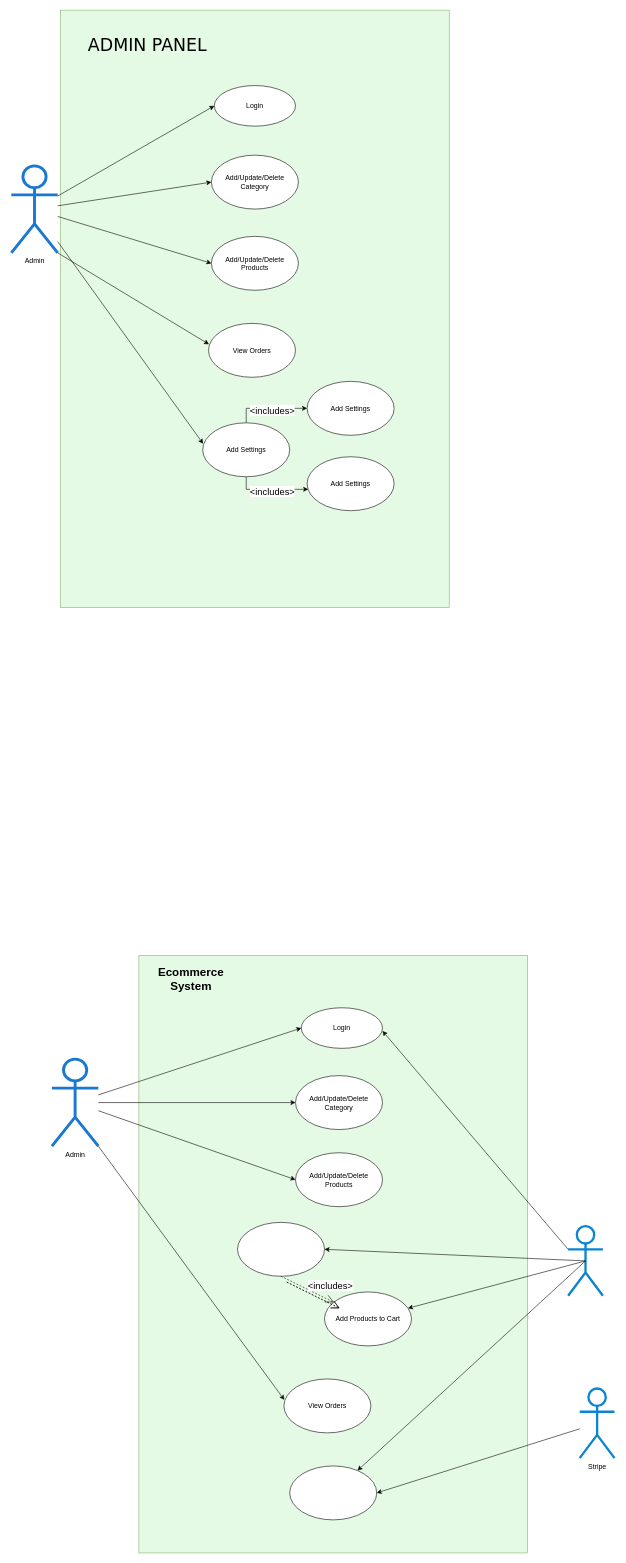
Image size: 626x1563. Some labels were removed from this diagram. Here are the shapes that lost their labels. From the top down, the centre of each, then its label:
At pixel 281 1249: "Create Orders".
At pixel 585 1261: "Customer".
At pixel 333 1492: "Payment".
